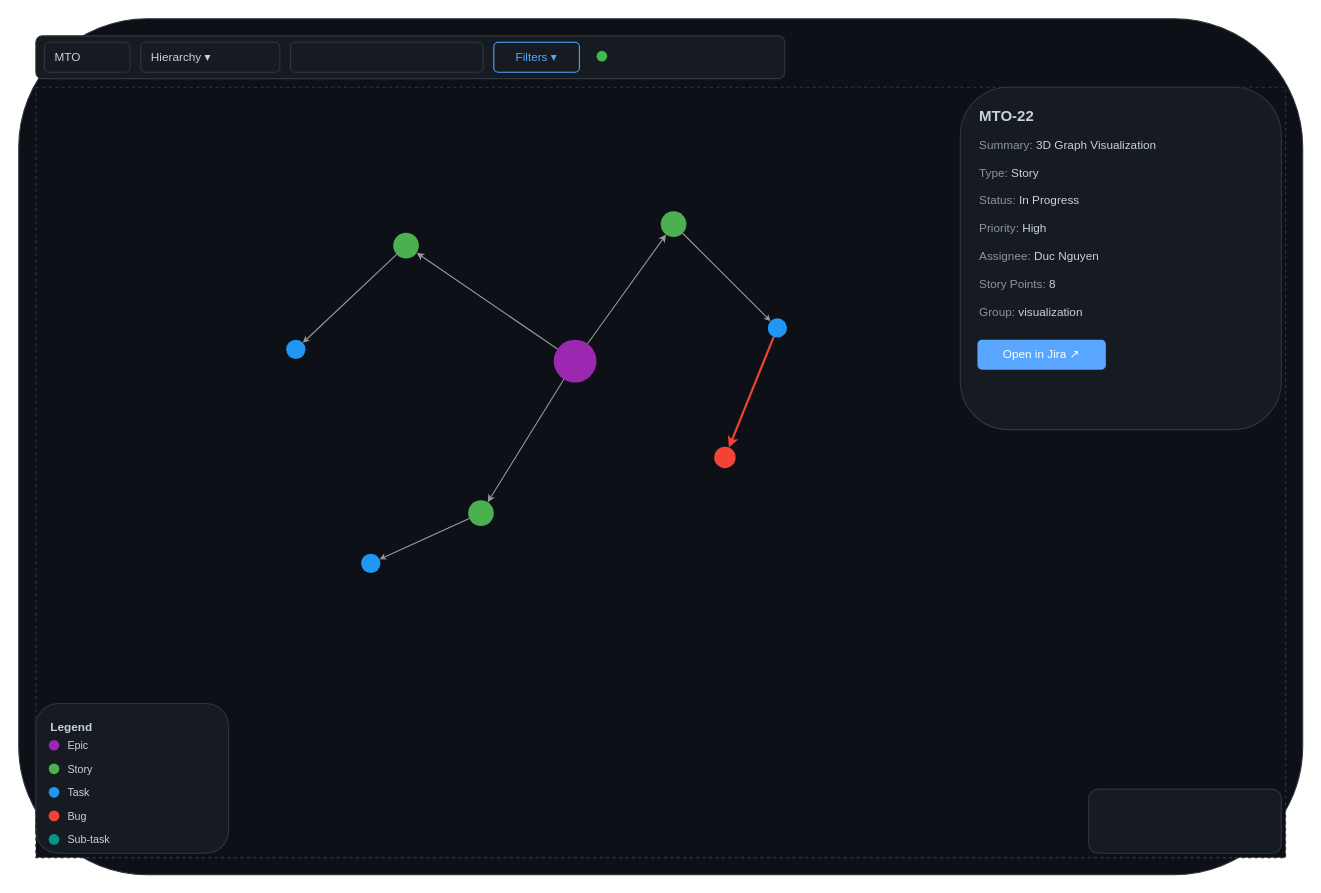
This 1321x893 diagram has some shape labels left out. The shapes that lost their labels are listed below. From the top down, each one's box as (x1, y1, x2, y2) in pixels, then its label:
(289, 41, 483, 72): Search ticket...
(1088, 788, 1281, 853): Nodes: 22 | Edges: 35 View: hierarchy Last sync: 2026-05-07
